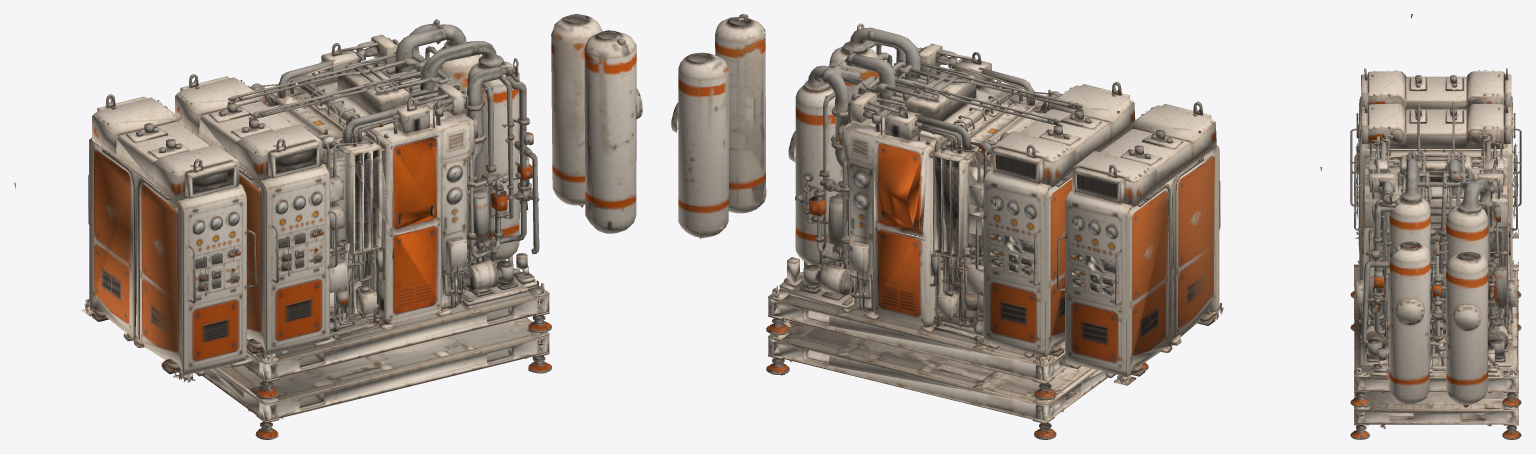
File: 生命装置.glb
The picture shows the model from 3 angles, left to right: view 1: azimuth 30°, elevation 25°; view 2: azimuth 150°, elevation 25°; view 3: azimuth 270°, elevation 25°; orthographic projection. The views are drawn at different scales.
Parts seen in each view (by area): view 1: Mesh_0, CUT_test.003, CUT_test.004, CUT_test.001, TANK_01, CUT_test, DOOR_TEST; view 2: Mesh_0, CUT_test.003, CUT_test.004, TANK_01, CUT_test.001, CUT_test; view 3: Mesh_0, CUT_test.001, TANK_01, CUT_test.003, CUT_test.004.
Boxes of the visible parts, x1,y1,x2,y2 form: Mesh_0: (175,19,551,399); CUT_test.003: (81,94,256,382); CUT_test.004: (161,317,551,439); CUT_test.001: (584,30,642,233); TANK_01: (551,14,602,207); CUT_test: (14,80,471,322); DOOR_TEST: (391,135,437,230); Mesh_0: (766,23,1135,400); CUT_test.003: (1056,101,1223,385); CUT_test.004: (766,320,1148,439); TANK_01: (671,52,729,238); CUT_test.001: (715,14,766,213); CUT_test: (925,71,1321,319); Mesh_0: (1350,101,1521,407); CUT_test.001: (1388,241,1430,404); TANK_01: (1446,251,1488,407); CUT_test.003: (1350,68,1521,251); CUT_test.004: (1350,299,1521,439).
Bounding box in the file's own units: 2.02 × 0.966 × 0.5962.
Materials: 1 (1 with a texture image).
